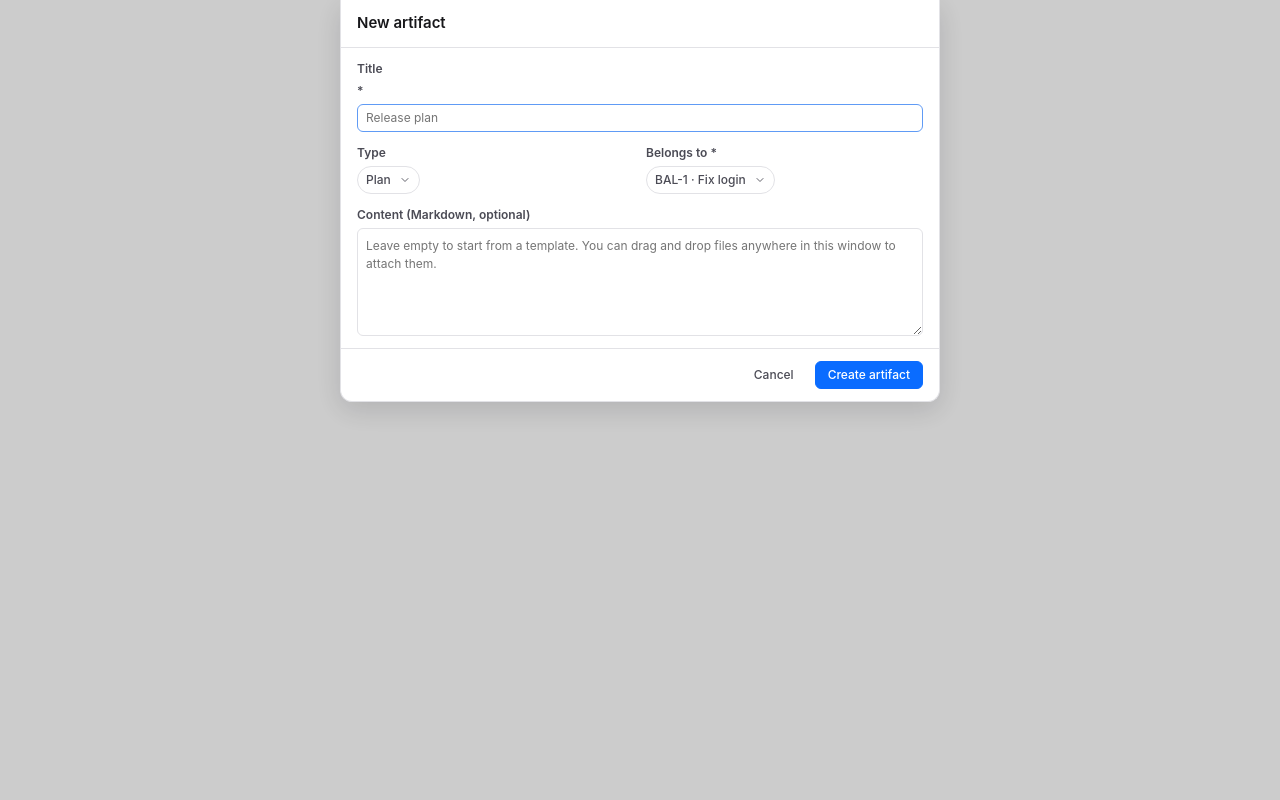
it: NewArtifactDialog › requires a title or a file, with aria-invalid and the prototype message
Click the button "Create artifact".
click(869, 374)  # box 815,360 -> 923,388
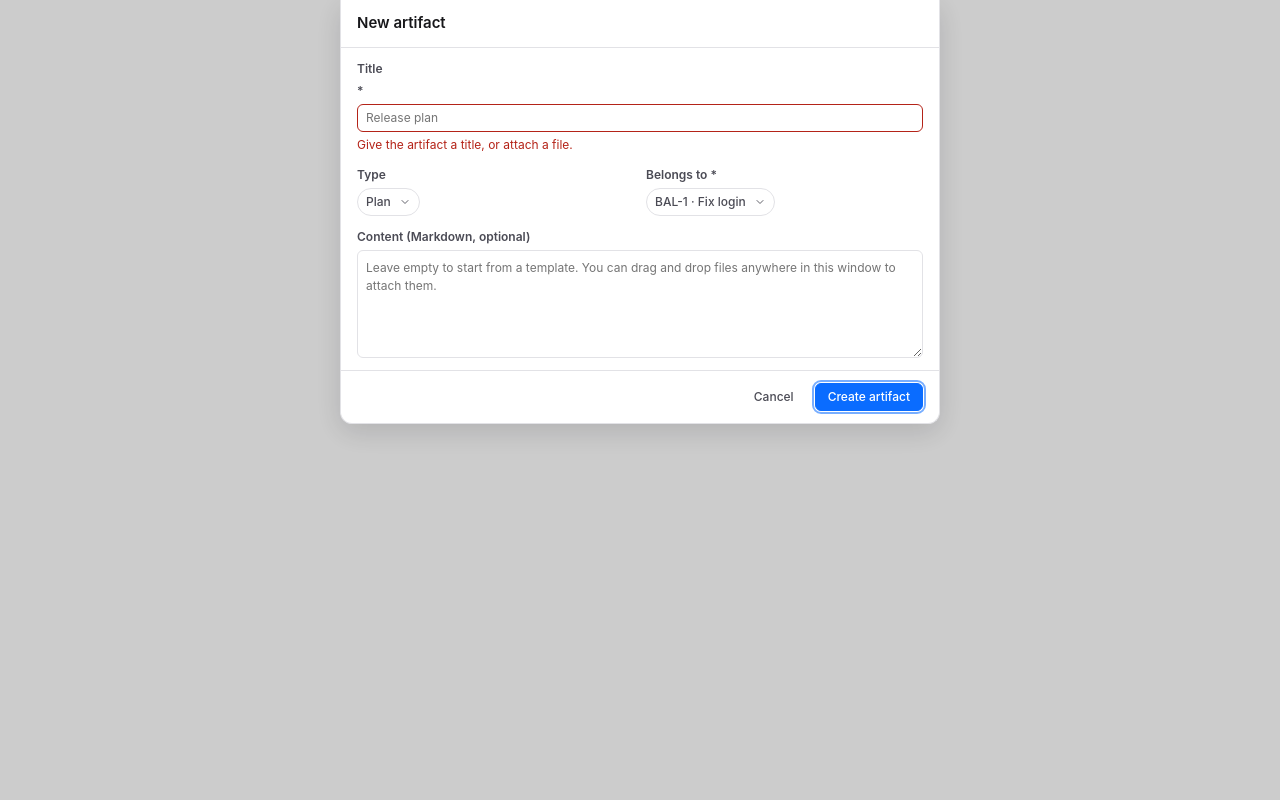
Result: the text "Give the artifact a title, or attach a file." is shown at 357,136 -> 573,152
